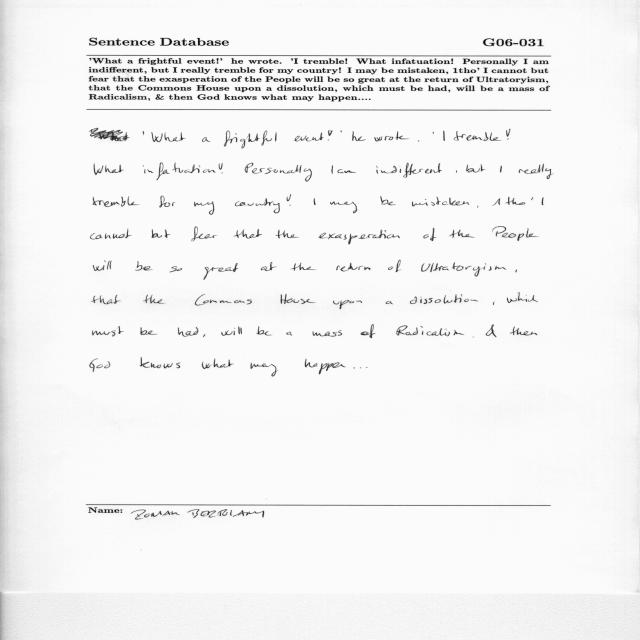word: (245, 163, 312, 182), (143, 163, 216, 180), (318, 230, 400, 245), (421, 263, 506, 277), (376, 163, 442, 178), (224, 131, 276, 149), (396, 326, 464, 337), (235, 198, 280, 214), (492, 226, 539, 241), (195, 294, 252, 306), (410, 294, 478, 304), (204, 263, 239, 280), (519, 164, 554, 179), (90, 128, 130, 141), (412, 197, 469, 206), (94, 196, 140, 207), (454, 131, 501, 141), (90, 229, 132, 240), (140, 358, 181, 369), (251, 363, 279, 377), (191, 227, 217, 242), (492, 197, 533, 206), (374, 131, 410, 141), (94, 163, 124, 175), (202, 358, 234, 369), (151, 132, 186, 142), (281, 294, 316, 304), (305, 359, 328, 374), (330, 202, 358, 214), (92, 326, 124, 336), (507, 293, 538, 303), (194, 201, 215, 215), (336, 263, 371, 271), (90, 358, 110, 372), (294, 133, 324, 142), (92, 295, 121, 304), (333, 300, 362, 309), (326, 362, 355, 371), (234, 229, 262, 238), (510, 327, 537, 336), (221, 326, 242, 336), (93, 260, 112, 271), (290, 263, 316, 271), (313, 330, 342, 337), (450, 230, 475, 238), (178, 327, 198, 337), (361, 325, 376, 338), (160, 196, 176, 208), (275, 230, 299, 238), (143, 295, 164, 304), (423, 228, 437, 241), (135, 261, 153, 271), (152, 229, 171, 238), (388, 260, 401, 272), (467, 164, 486, 172), (380, 196, 396, 205), (261, 262, 277, 271), (256, 326, 272, 335), (486, 325, 497, 338), (352, 131, 366, 141), (141, 327, 158, 335), (337, 170, 356, 174), (170, 266, 182, 272), (328, 130, 333, 140), (202, 137, 211, 142), (506, 129, 510, 140), (287, 195, 291, 206), (219, 163, 223, 173), (287, 332, 293, 336), (386, 301, 393, 304), (443, 131, 445, 141), (331, 165, 333, 174), (542, 198, 544, 206), (500, 166, 502, 173), (314, 198, 316, 205), (340, 130, 342, 133), (203, 334, 205, 337), (143, 132, 144, 136), (456, 170, 457, 173), (516, 270, 517, 273), (493, 302, 494, 305), (433, 132, 434, 134), (477, 206, 478, 208), (472, 337, 474, 338), (418, 141, 419, 142)
